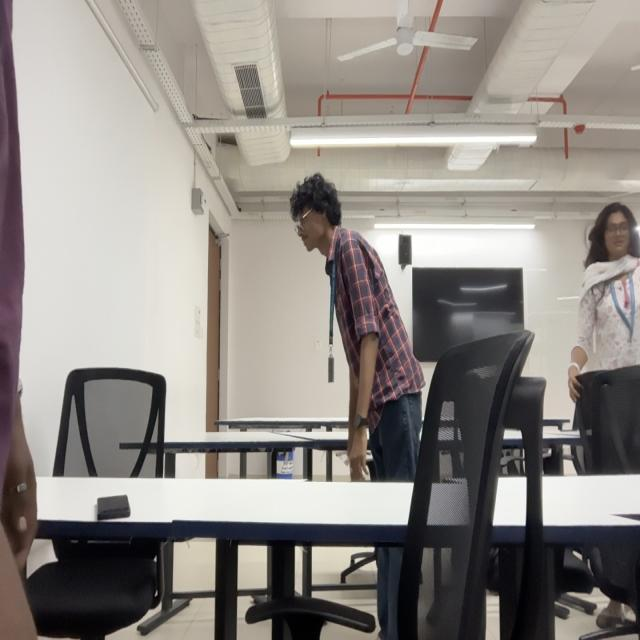darshan: (288, 176, 341, 253)
